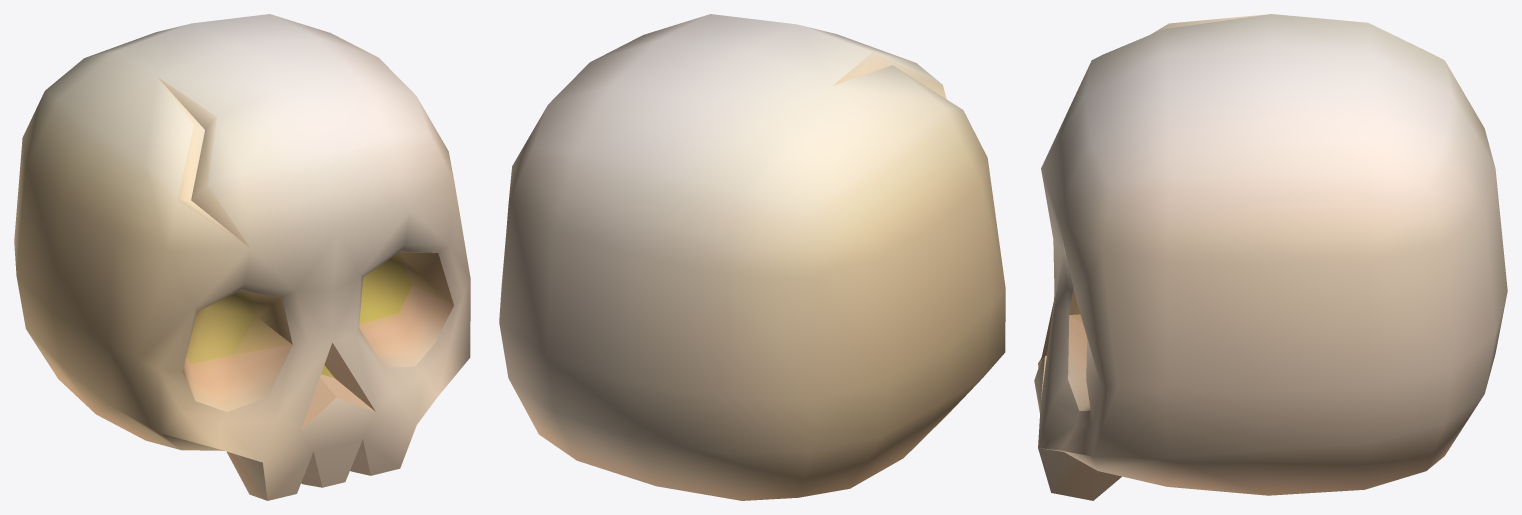
Rendered from skull.glb.
The picture shows the model from 3 angles, left to right: view 1: azimuth 30°, elevation 25°; view 2: azimuth 150°, elevation 25°; view 3: azimuth 270°, elevation 25°; orthographic projection. The views are drawn at different scales.
Parts seen in each view (by area): view 1: skull; view 2: skull; view 3: skull.
Boxes of the visible parts, x1=… form: skull: x1=14, y1=14, x2=470, y2=500; skull: x1=499, y1=14, x2=1005, y2=500; skull: x1=1034, y1=14, x2=1507, y2=500.
Size of the model in its own units: 0.9176 by 0.8982 by 0.9072.
1 material, 1 textured.
